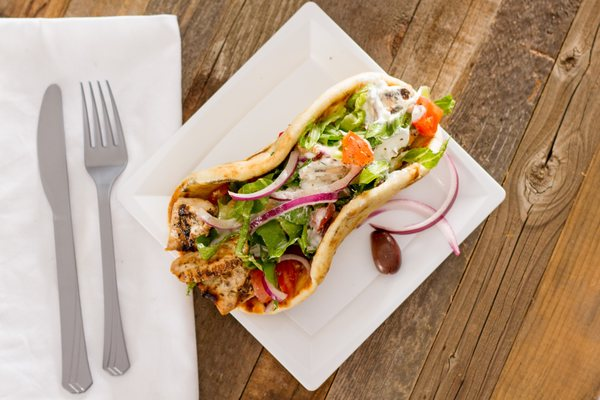sandwich: (29, 82, 94, 390), (78, 78, 134, 382)
